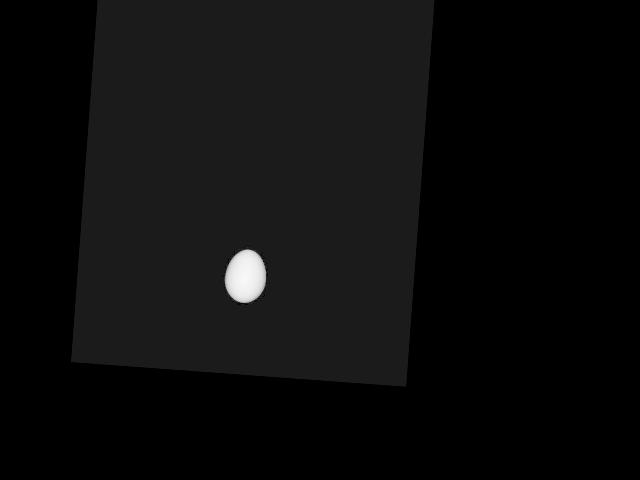egg: (223, 248, 268, 304)
